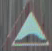Speed Breaker ahead: (5, 3, 51, 48)
